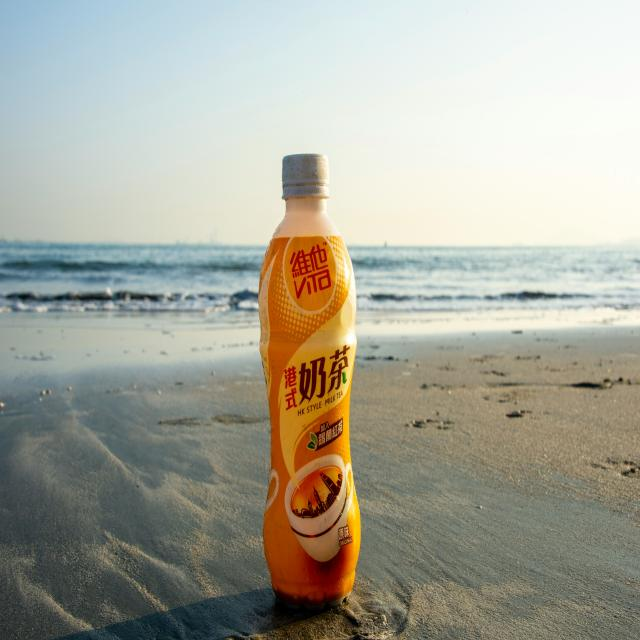bottle: (257, 151, 360, 611)
